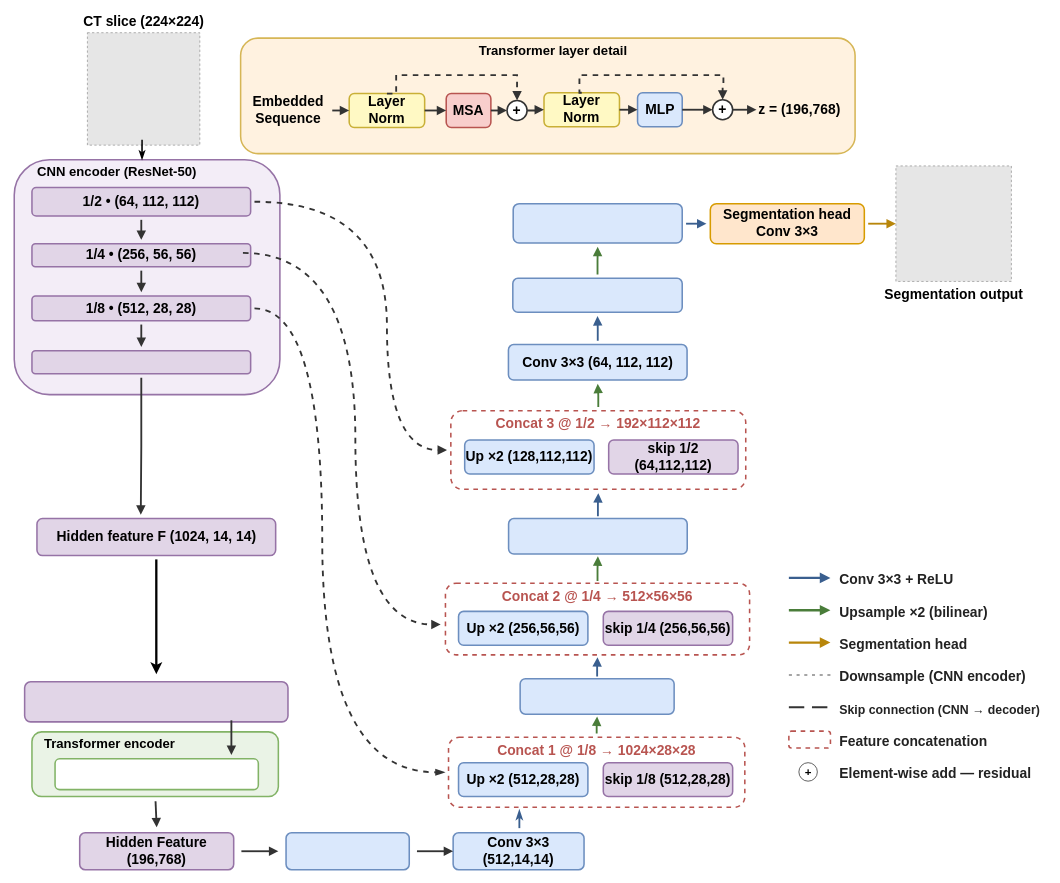
Some shapes in this 1060 by 883 pixel diagram are drawn without their labels. Grey dashed boxes stand in for pictures. Each missing label, with the centre of its shape:
1/16 • F (1024, 14, 14): point 141,362
Conv 3×3 (128, 56, 56): point 597,535
Conv 3×3 (16, 224, 224): point 597,223
Conv 3×3 (256, 28, 28): point 597,696
Linear Projection (Patch Embedding): point 155,701
Reshape (768,14,14): point 347,851
Transformer Layer × (n = 12): point 156,774
Up ×2 (64, 224, 224): point 597,295
